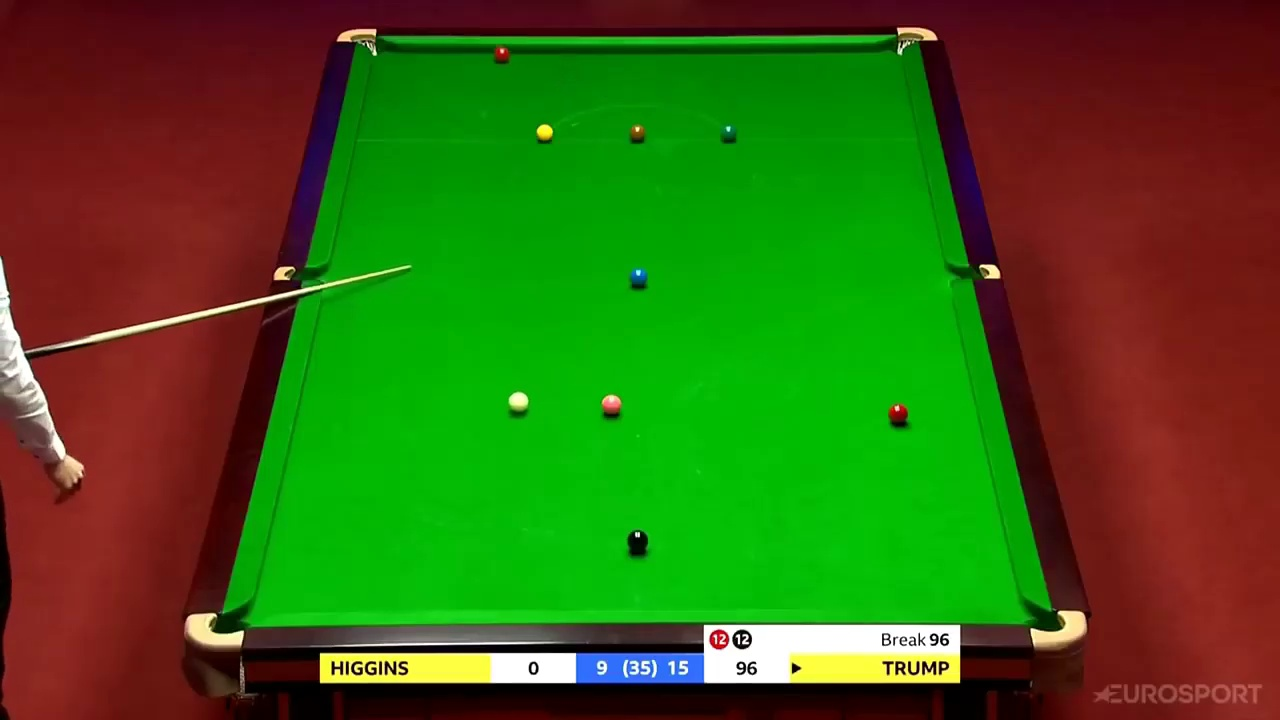ball: (508, 391, 529, 414), (601, 393, 621, 416), (888, 402, 908, 425), (628, 528, 648, 550), (533, 121, 556, 140), (628, 265, 647, 283), (628, 122, 644, 139), (494, 44, 509, 61), (720, 123, 735, 140)
